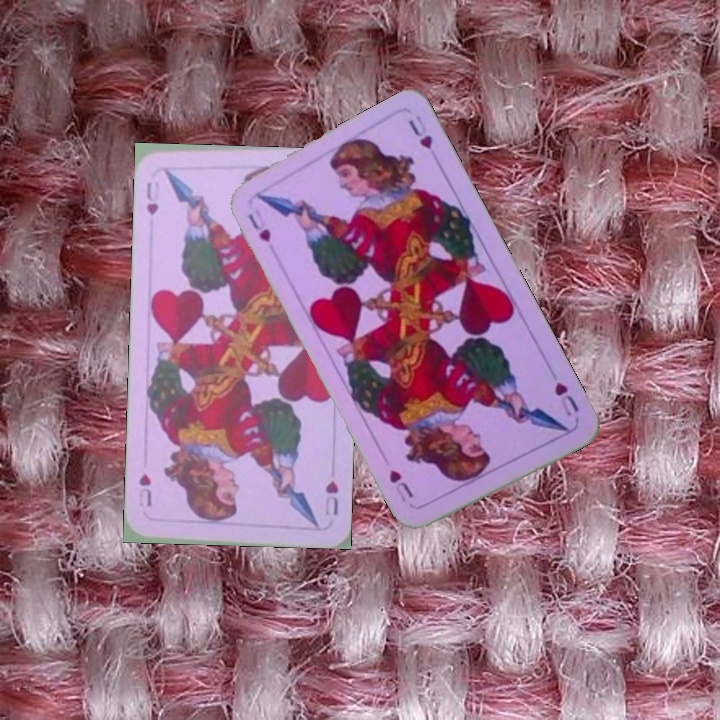HU: (550, 378, 582, 419), (244, 205, 274, 245), (321, 477, 341, 518), (142, 178, 162, 218)
